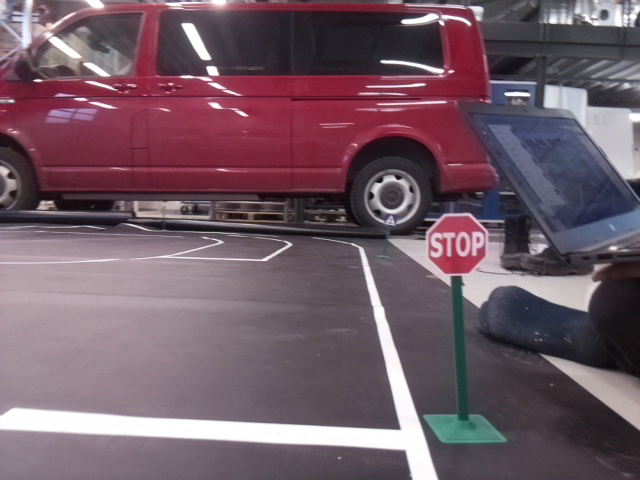Stop: (425, 214, 483, 274)
